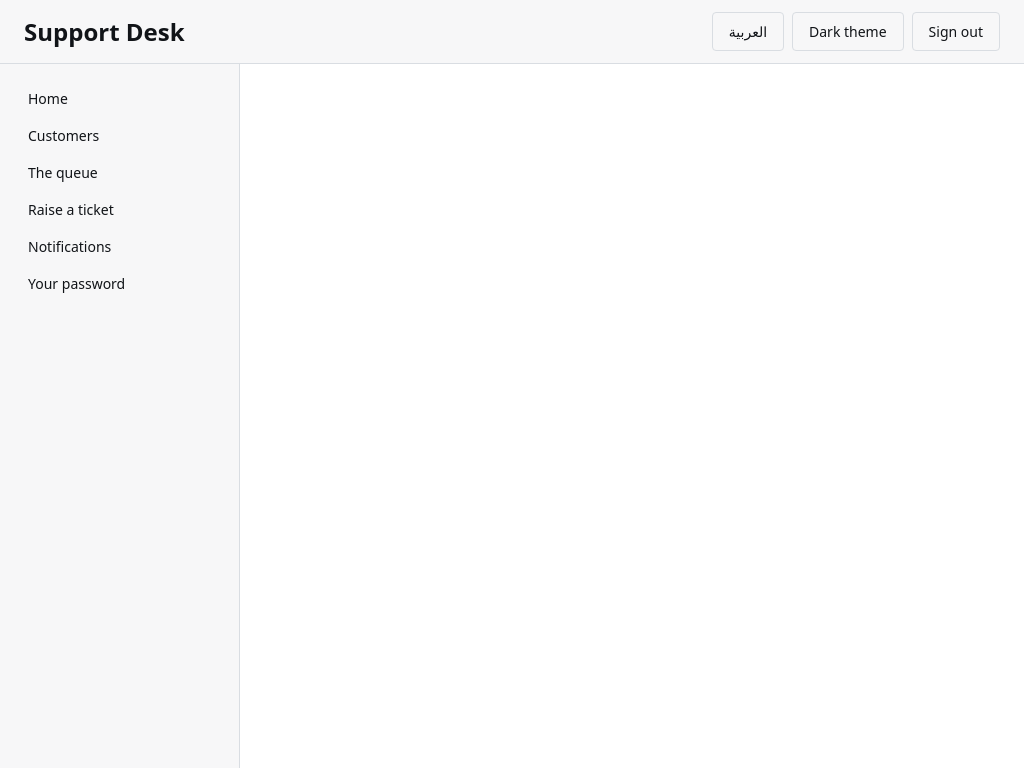
it: the theme control is in the shell, and switching it persists
Click the button "Dark theme".
click(848, 32)  # box [792,12,904,51]
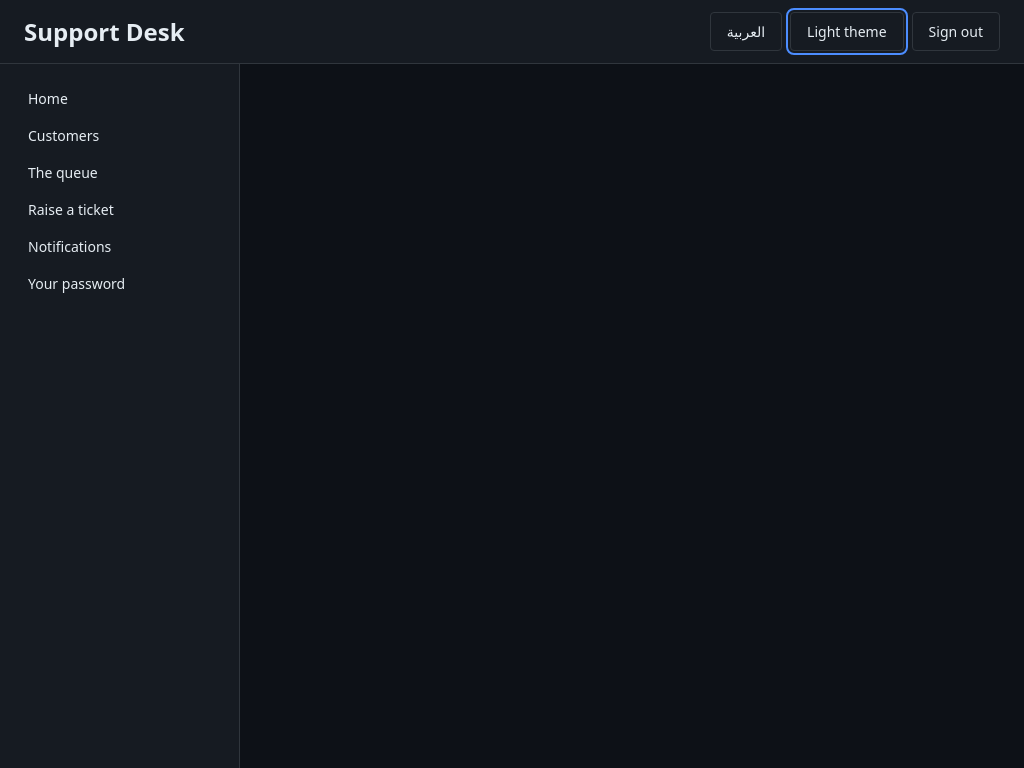
Check: the button "Light theme" is shown, box [790,12,904,51]
